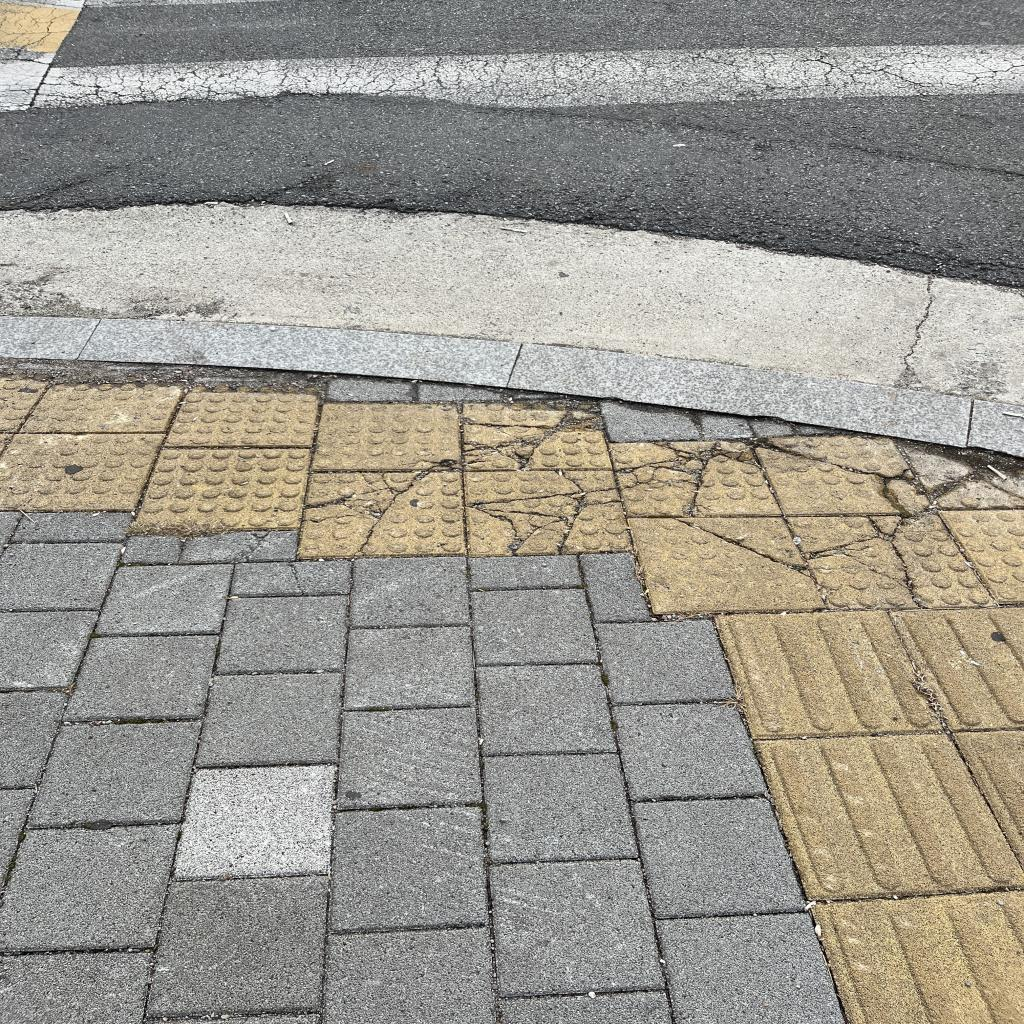Stop block broken: (788, 515, 995, 608), (629, 514, 823, 613), (754, 433, 932, 516), (465, 469, 632, 555), (300, 472, 465, 555), (609, 440, 778, 517), (462, 399, 611, 469)
Stop block normal: (133, 449, 311, 532)
